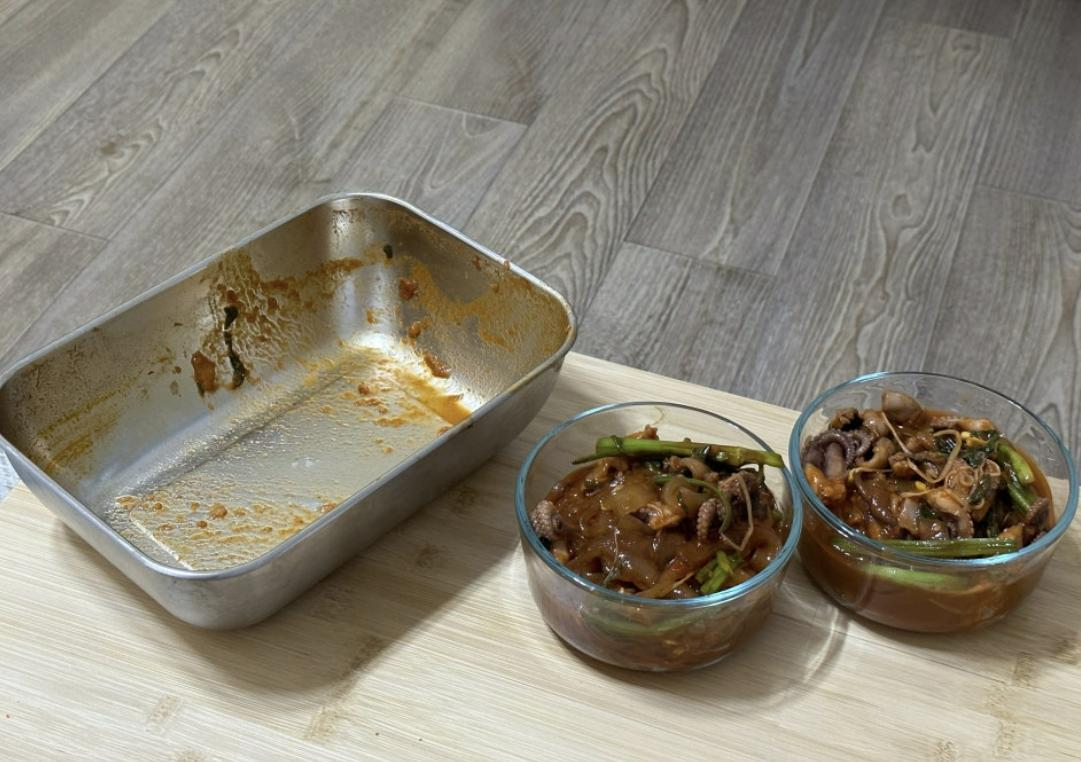Lunch Box: (514, 401, 802, 671), (788, 372, 1078, 632)
